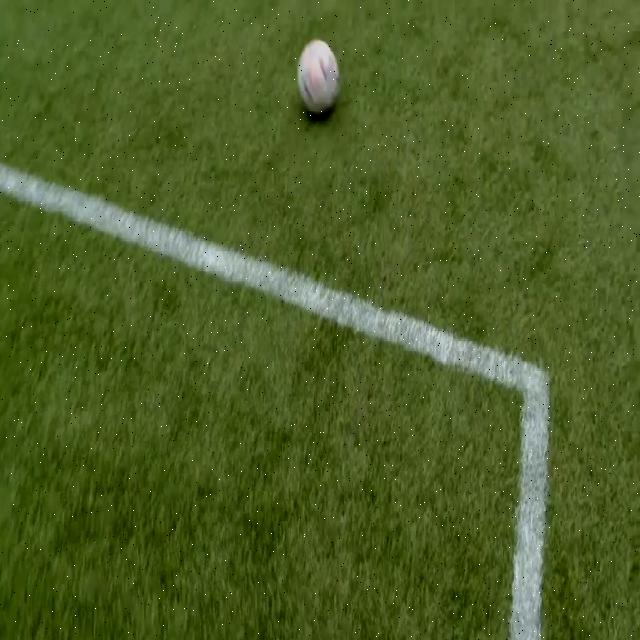ball: (297, 40, 339, 114)
